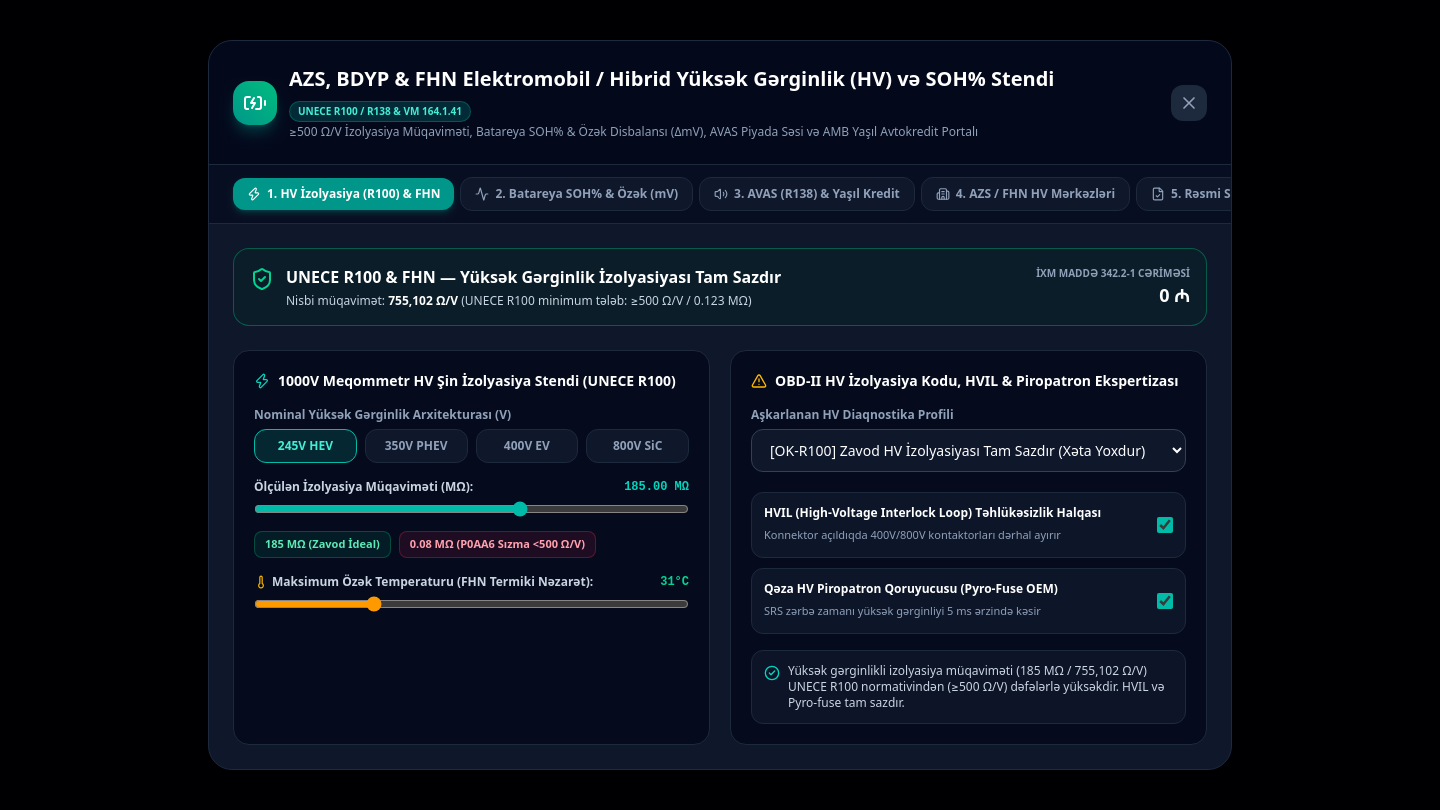
HvBatterySafetyModal component › navigates to Tab 3 (UNECE R138 AVAS & Tax Code 164.1.41 / AMB Green Credit) and verifies privileges
Click the button with test id "tab-hv-avas-green" at {"x": 807, "y": 194}, box [699, 177, 915, 211]
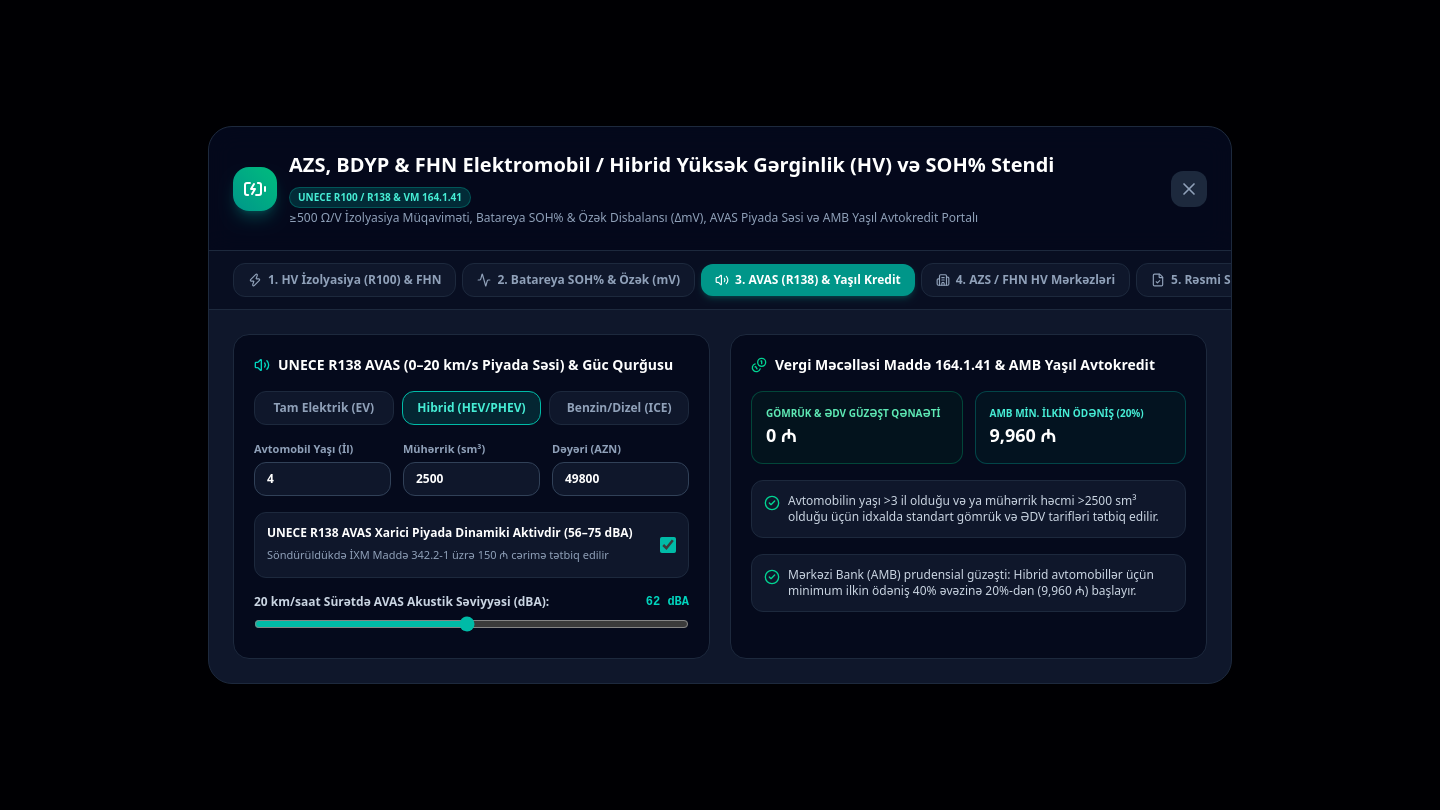
Now the element with test id "panel-hv-avas-green" is shown, box [233, 334, 1207, 659]
Switch to full EV powertrain
Click the button with test id "powertrain-btn-ev" at {"x": 324, "y": 408}, box [254, 391, 394, 425]
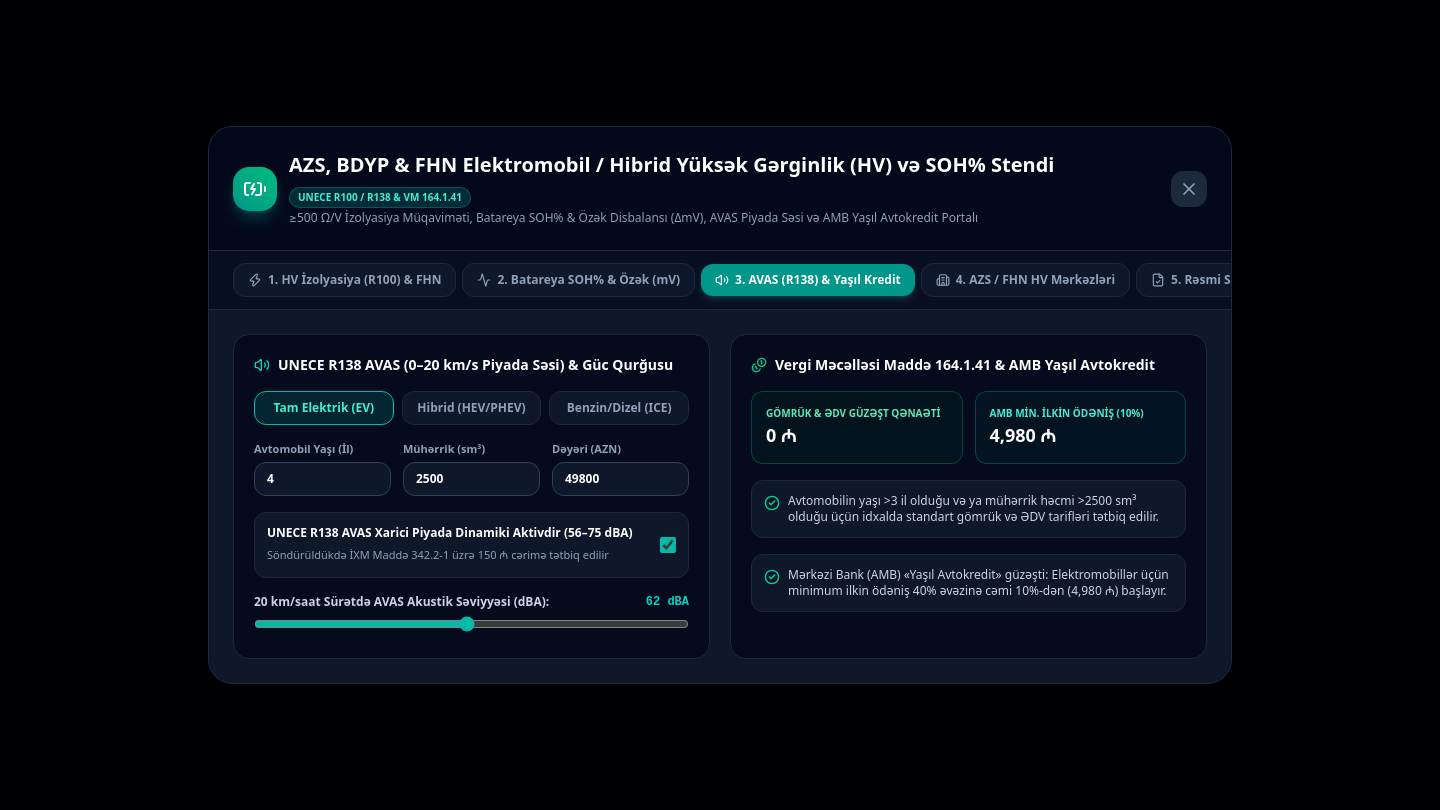
Now the text "4,980 ₼" is shown, box [990, 423, 1056, 447]
Click the checkbox with test id "avas-active-checkbox" at {"x": 668, "y": 545}, box [660, 537, 676, 553]
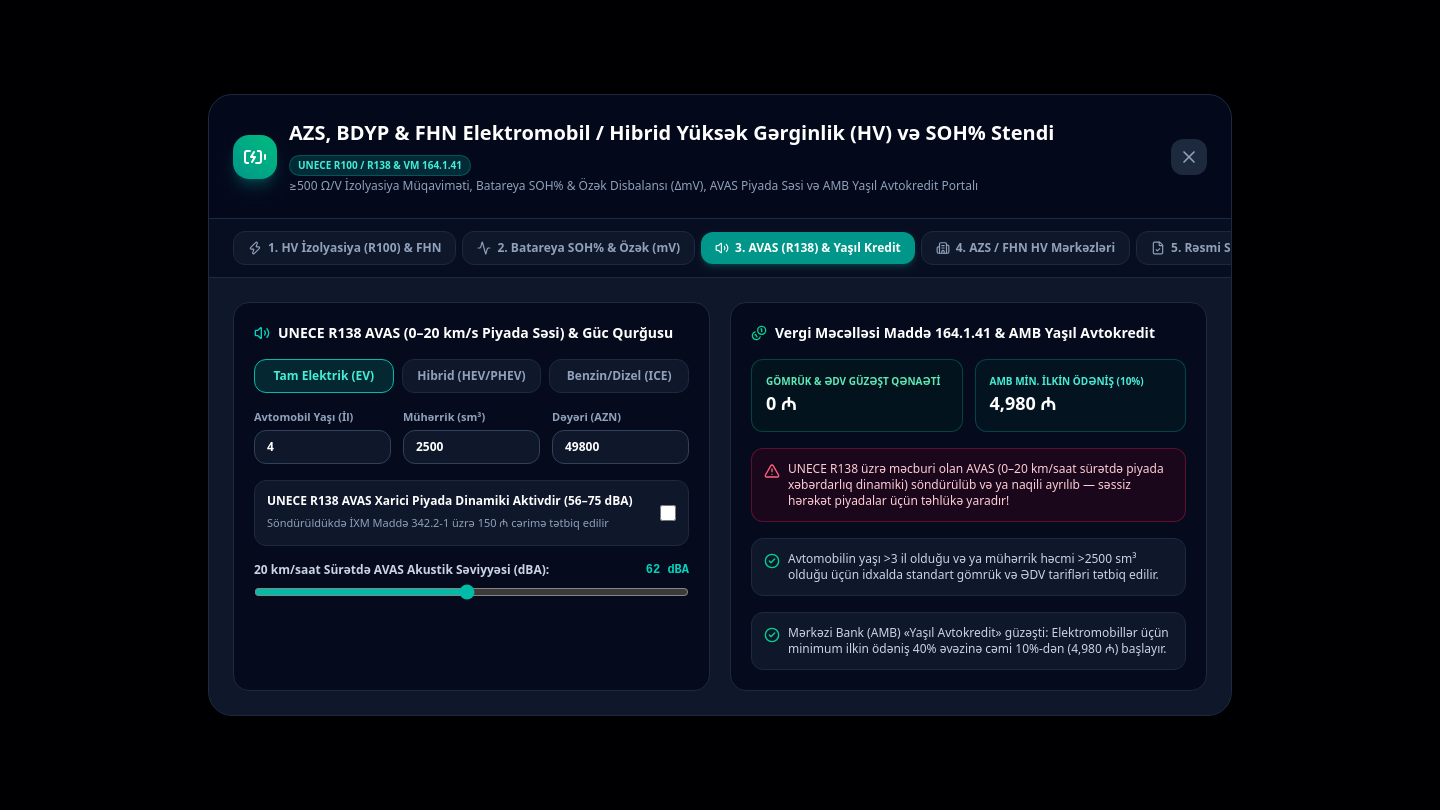
Now the element with test id "panel-hv-avas-green" shows "UNECE R138 üzrə məcburi olan AVAS", box [788, 460, 1164, 509]
